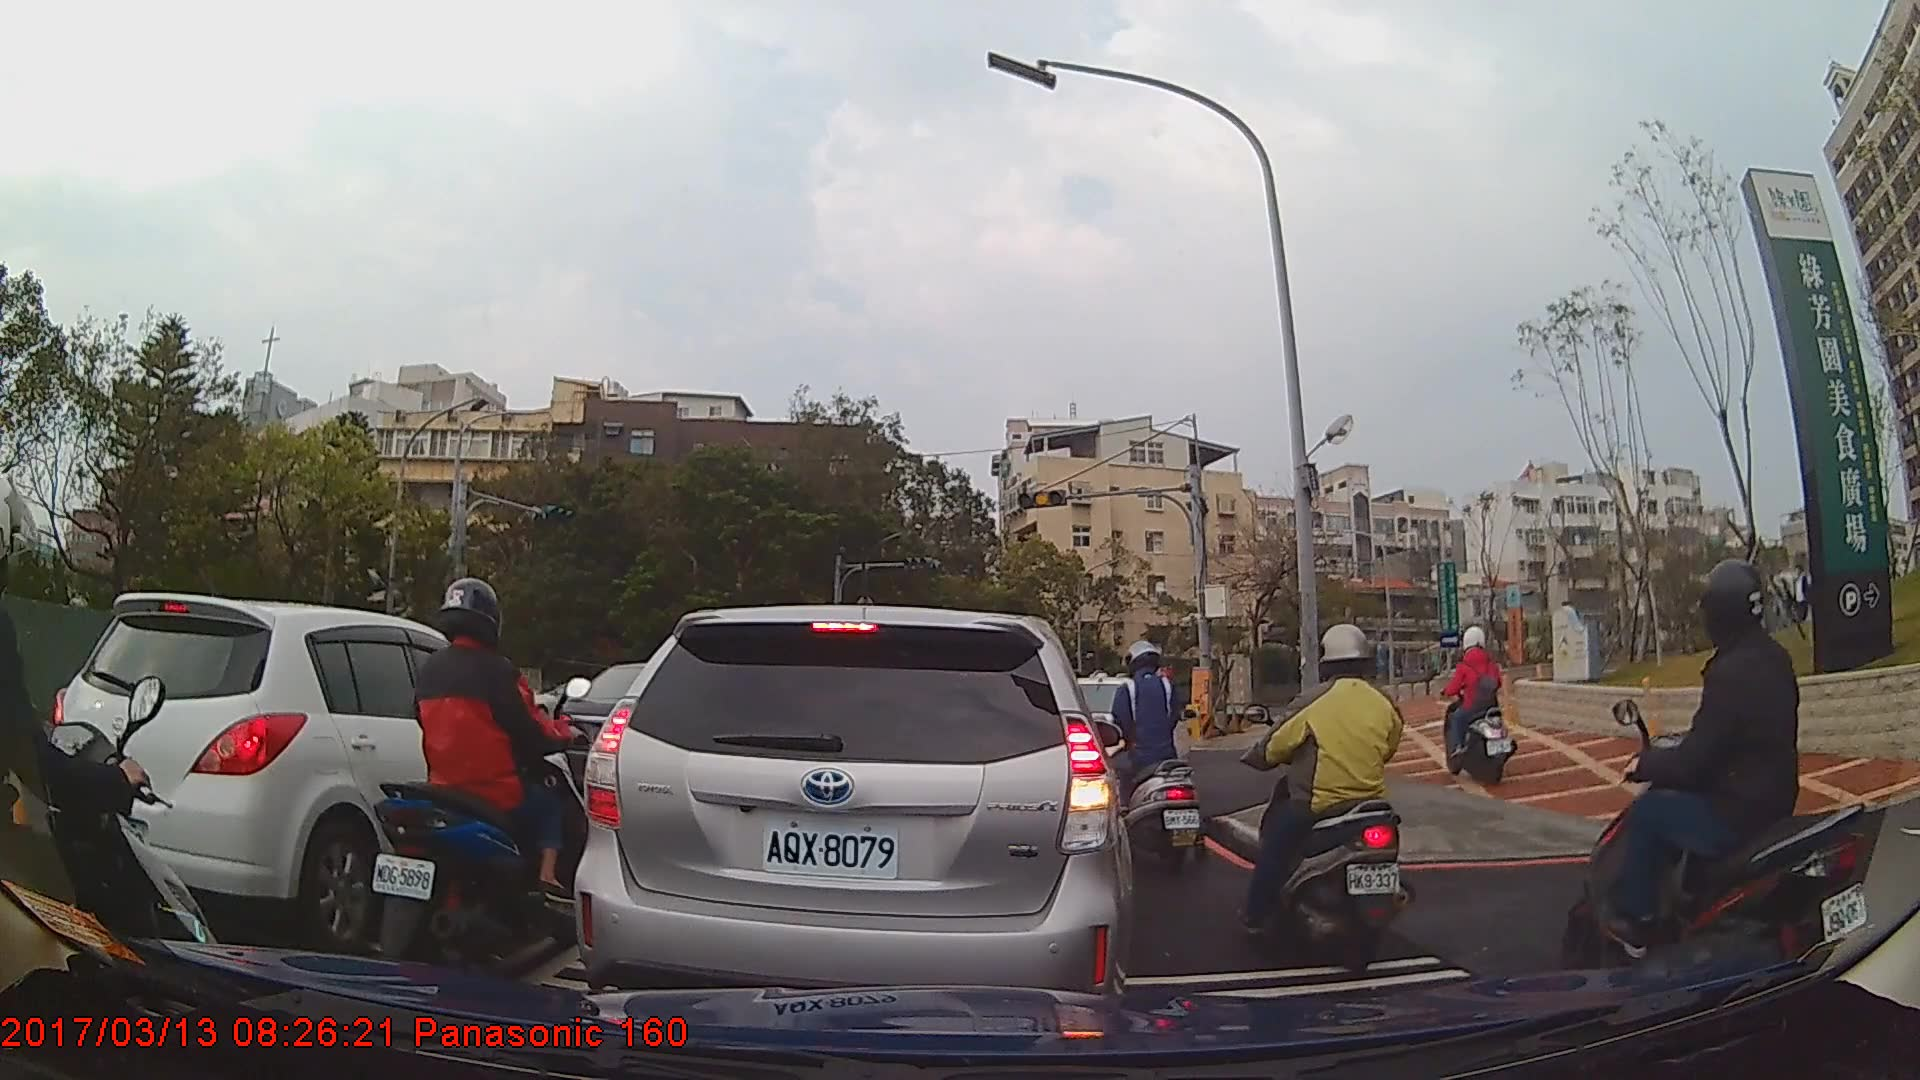pedestrian: (1779, 553, 1822, 625)
rider: (1575, 555, 1879, 1020), (1, 470, 214, 1080), (370, 572, 595, 982), (1237, 622, 1420, 958), (1102, 641, 1210, 866), (1439, 626, 1517, 785)
vehicle: (571, 602, 1134, 1030), (45, 591, 578, 955)
